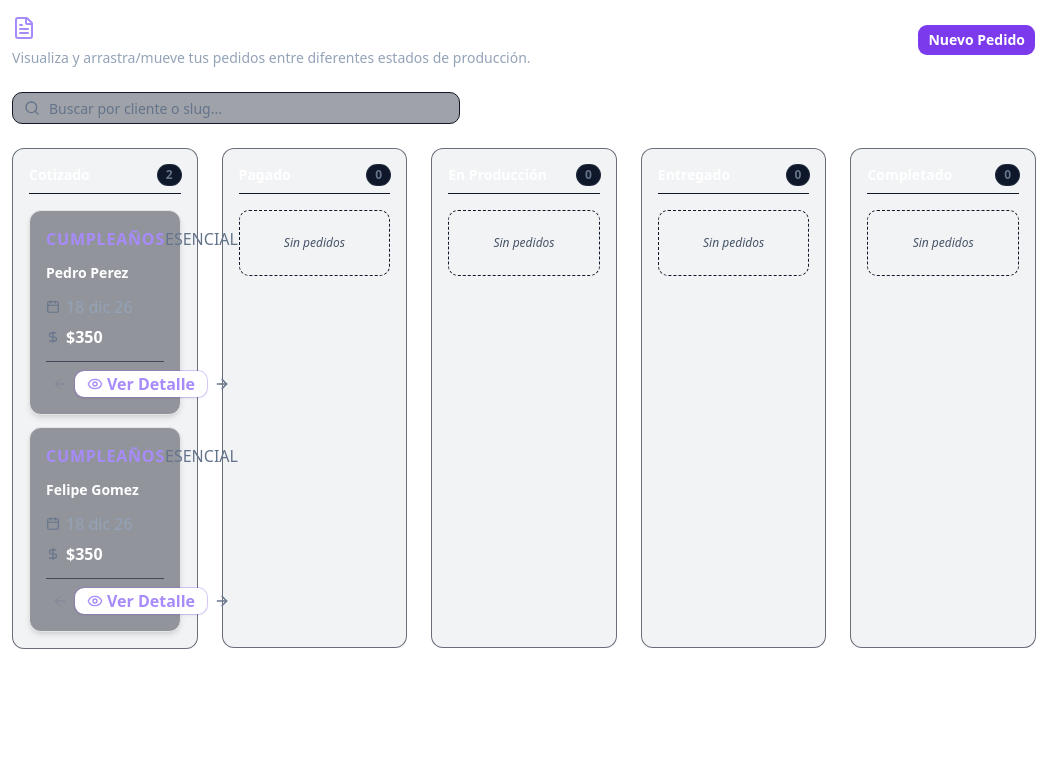
Scenario: Kanban (PedidosClient) Component Tests › debe filtrar pedidos por nombre del festejado en datosInvitacion
Expected: the heading "Felipe Gomez" is shown, [46,480,139,499]
# Type "Mateo" into search input
In the field with placeholder "Buscar por cliente o slug...": (236, 108) [12,92,460,124], type "Mateo"
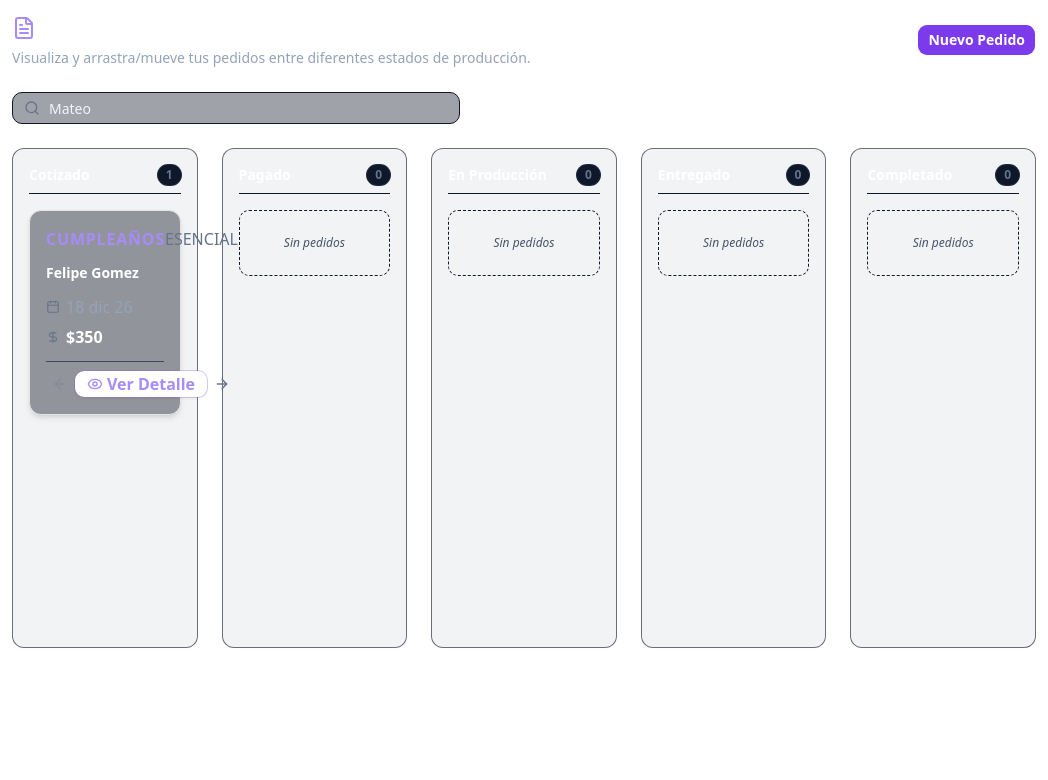
Expected: the heading "Felipe Gomez" is shown, [46,263,139,282]
Expected: the heading "Pedro Perez" is gone
